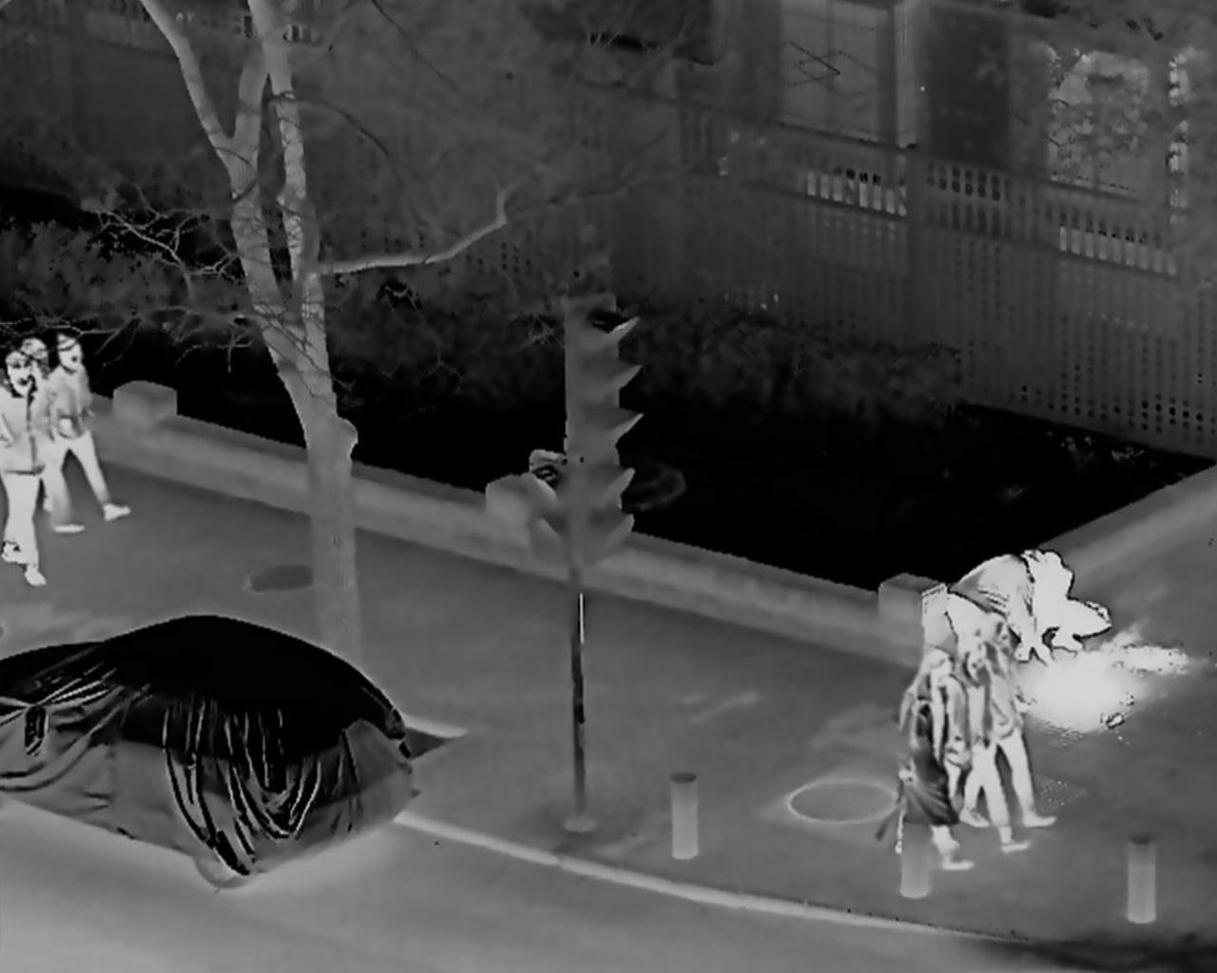person: (937, 637, 1025, 855), (964, 617, 1053, 830), (33, 337, 129, 523), (900, 654, 973, 870), (942, 549, 1041, 702), (999, 550, 1115, 662), (10, 339, 74, 538)
